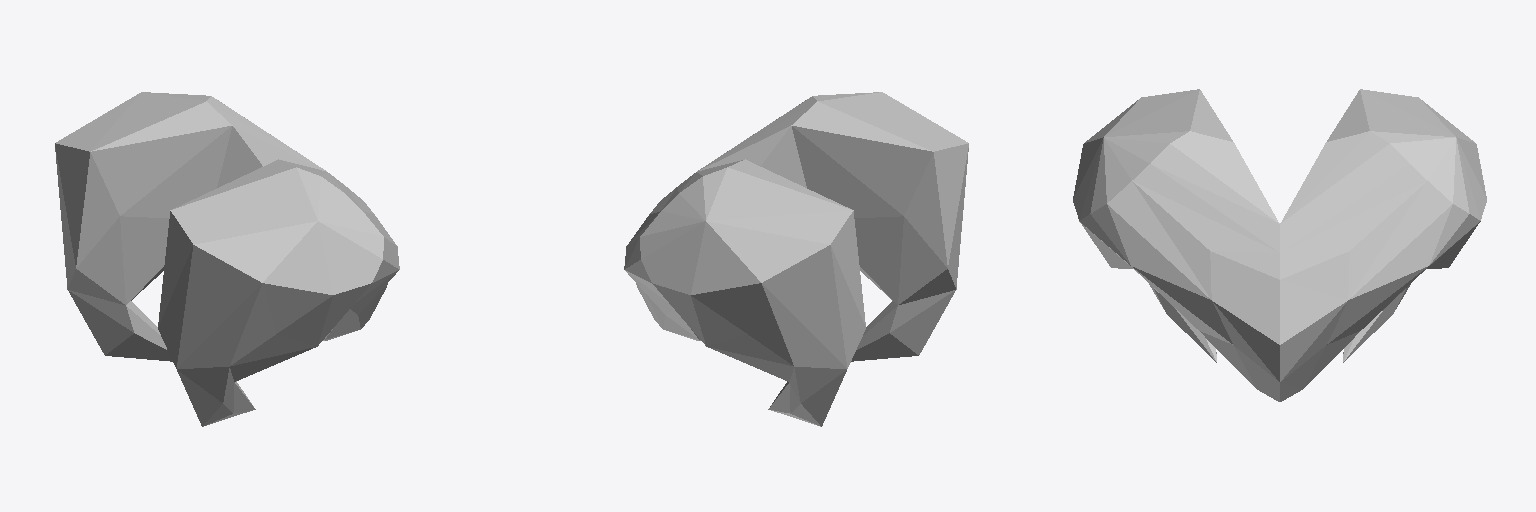
File: helium_joint.obj
The picture shows the model from 3 angles: view 1: azimuth 30°, elevation 25°; view 2: azimuth 150°, elevation 25°; view 3: azimuth 270°, elevation 25°; orthographic projection.
Visible parts, largest first — view 1: HeliumJoint; view 2: HeliumJoint; view 3: HeliumJoint.
Part boxes in pixels (x1,y1,x2,y2): HeliumJoint: (55,92,399,426); HeliumJoint: (624,92,968,426); HeliumJoint: (1073,89,1486,401).
Bounding box in the file's own units: 2.41 × 2.03 × 3.11.